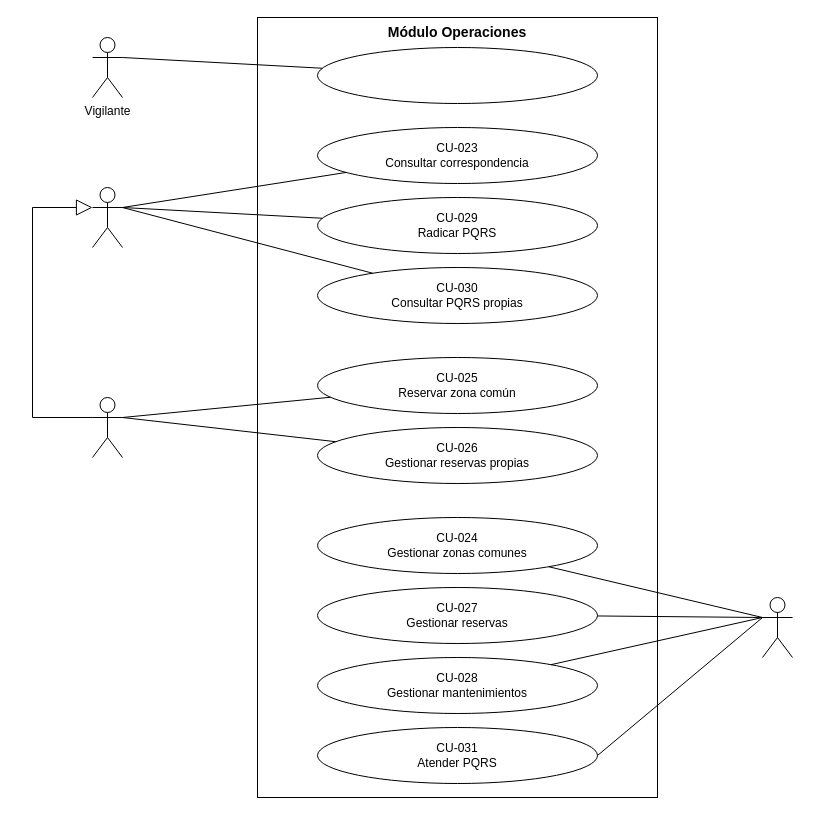
This 832x815 diagram has some shape labels left out. The shapes that lost their labels are listed below. From the top down, each one's centre as x and y in pixels, then its label:
(x=457, y=75): CU-022 Gestionar correspondencia
(x=107, y=217): Persona vinculada
(x=107, y=427): Residente
(x=777, y=627): Administrador
